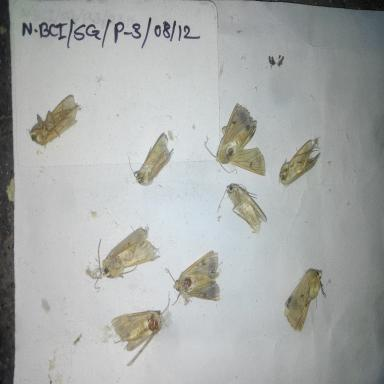abw: (204, 101, 274, 210), (84, 221, 162, 296), (162, 246, 222, 311), (26, 87, 84, 152), (280, 261, 330, 336), (109, 304, 166, 368), (212, 180, 269, 238), (278, 131, 326, 195), (125, 129, 177, 188)
